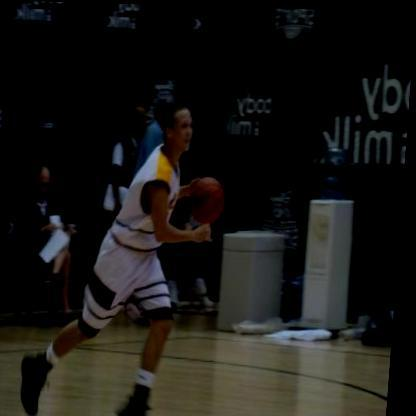basketball: (190, 174, 234, 222)
